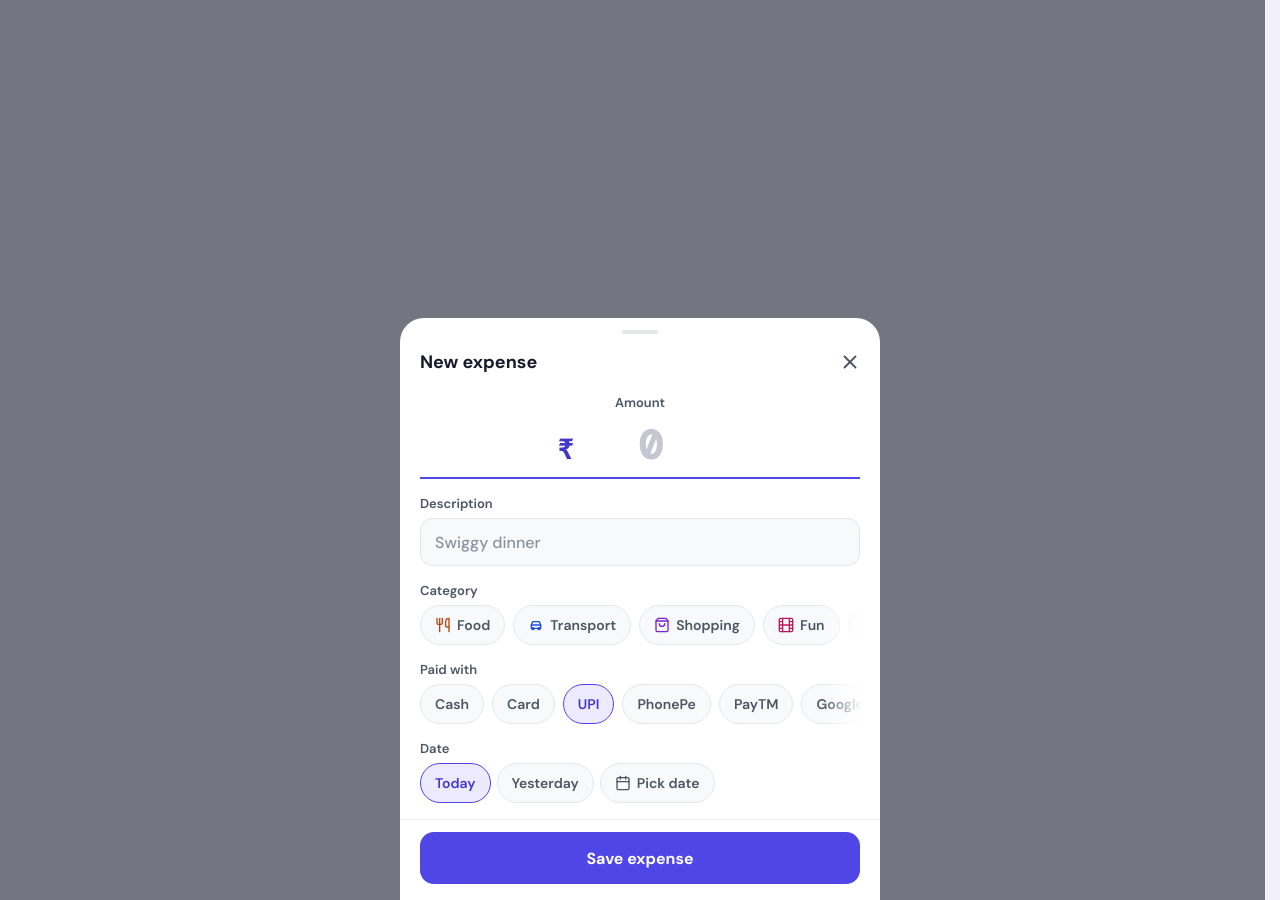
add mode: the save button shows the amount once one is typed
Check: the button "Save expense" is shown, box top-left (420, 832), bottom-right (860, 884)
Type "486" into the field labelled "Amount" at (650, 445), box top-left (578, 419), bottom-right (722, 471)
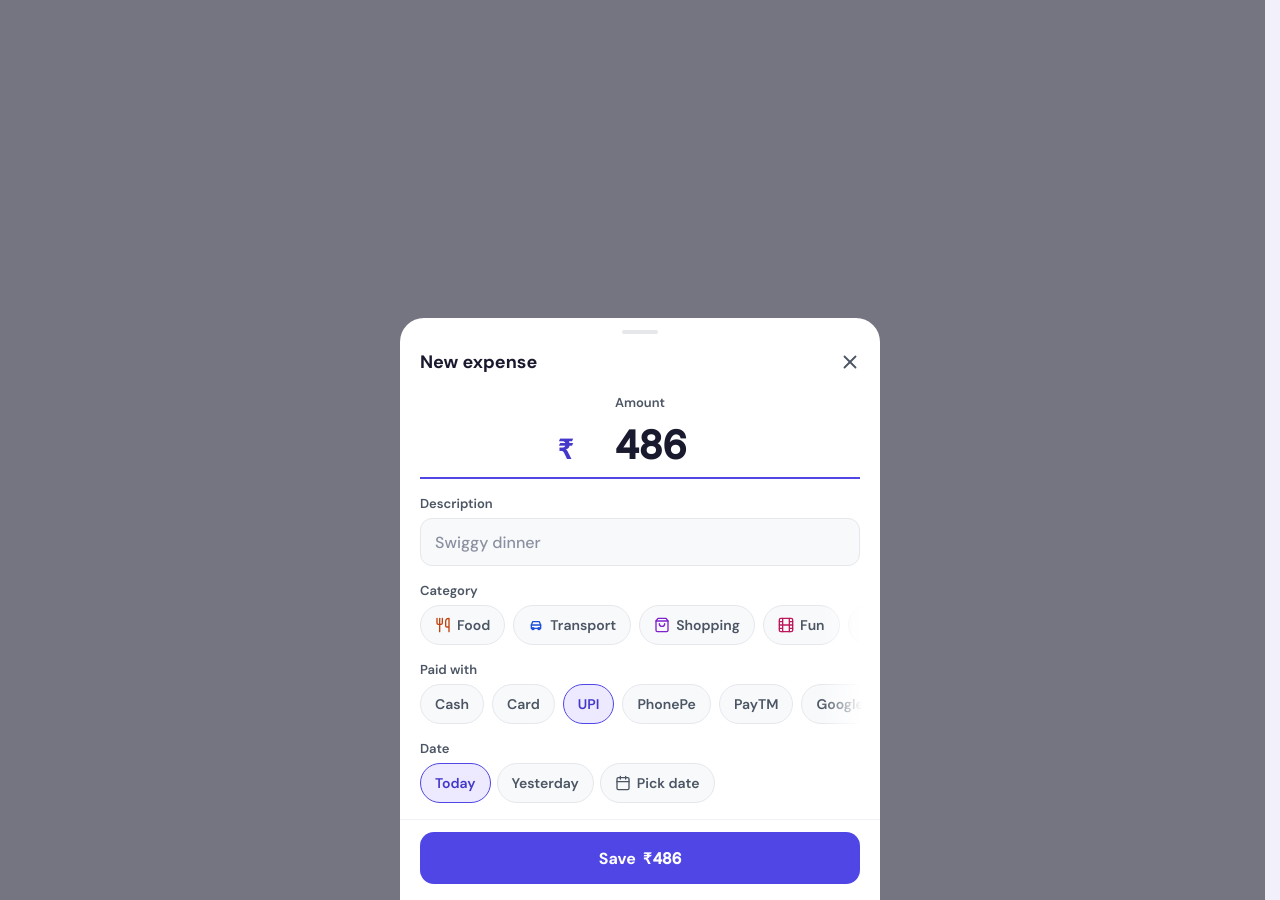
Check: the button "Save ₹486" is shown, box top-left (420, 832), bottom-right (860, 884)
